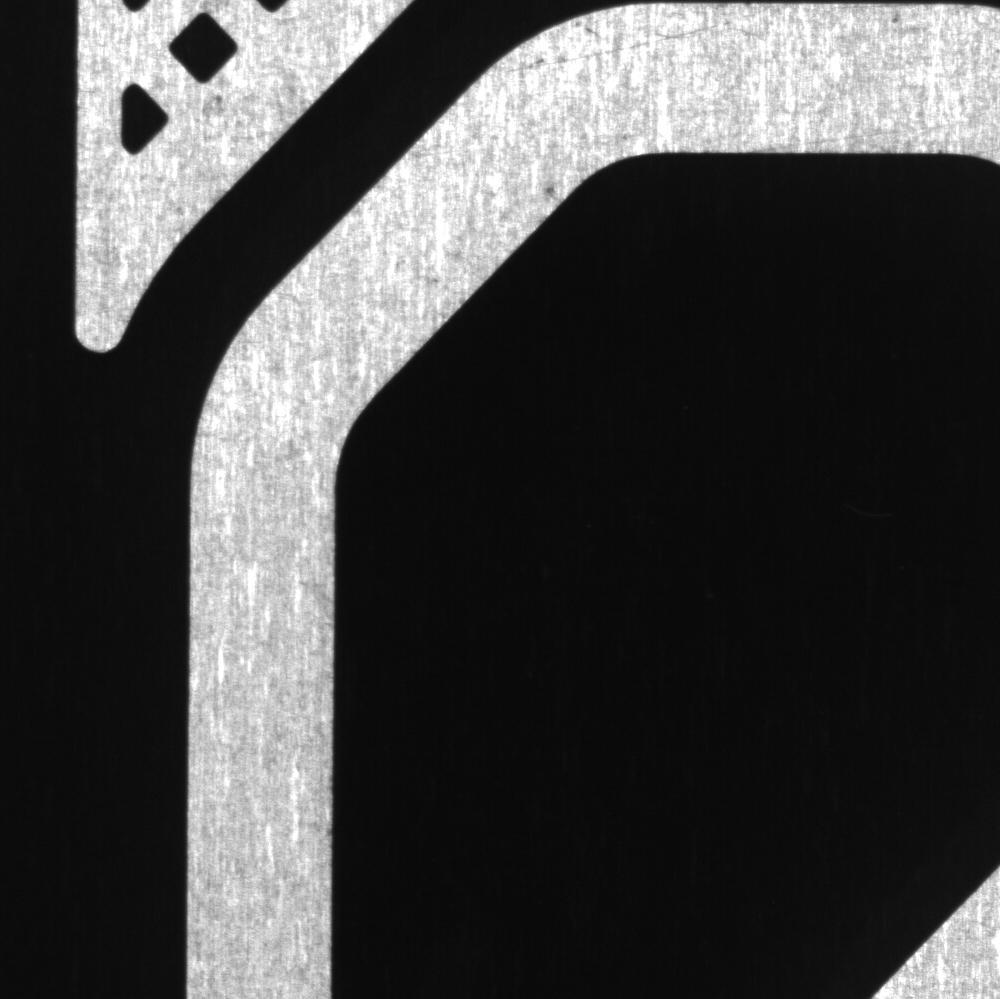Pinhole: (540, 173, 566, 201)
Scar: (499, 19, 739, 78), (770, 114, 947, 150)
